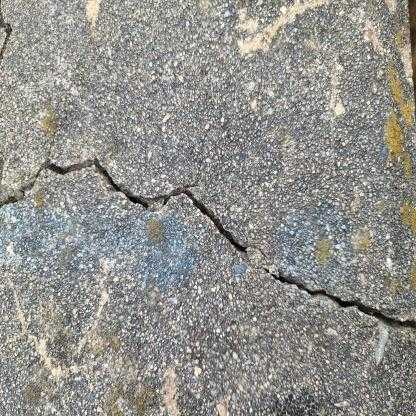crack: (2, 156, 413, 333)
